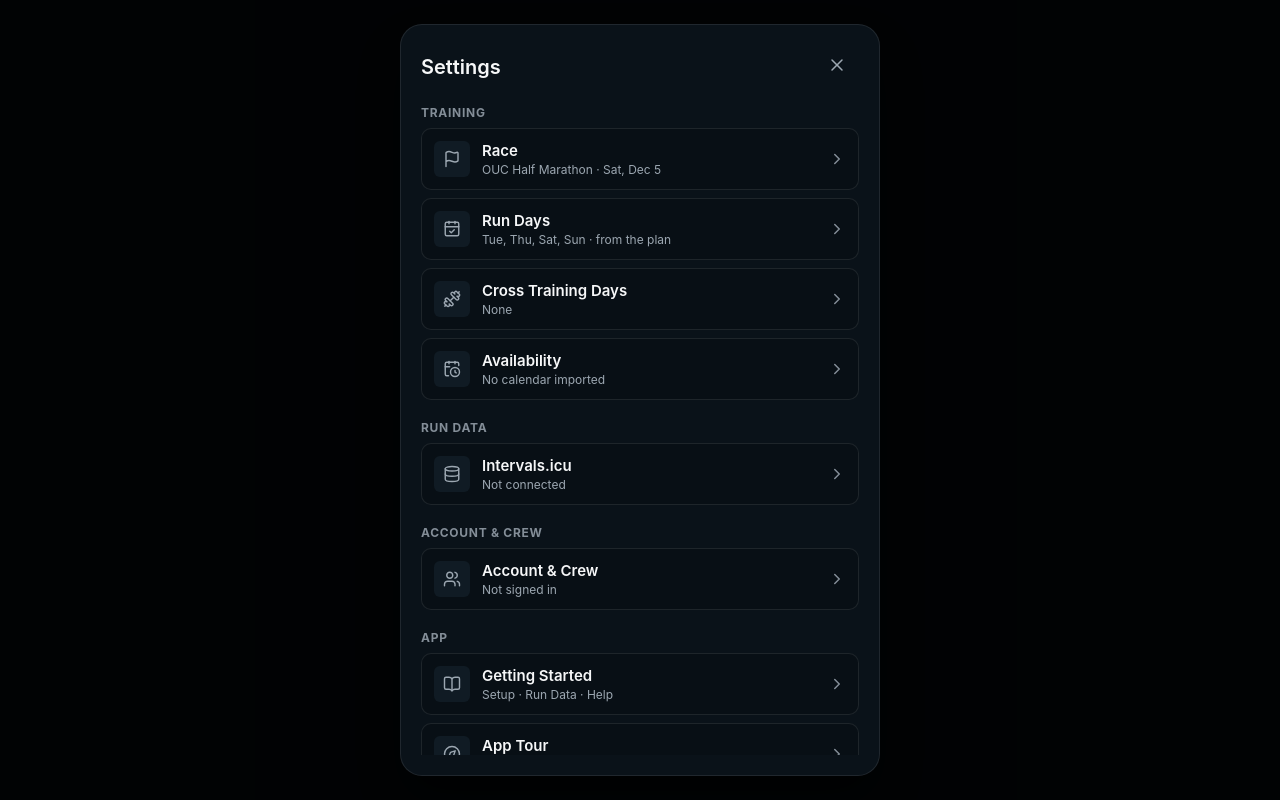
Test case: moving between settings and the sheet it opens › shows one sheet at a time, and comes back here when one is dismissed
Click the button "Run Days Tue, Thu, Sat, Sun · from the plan".
click(640, 229)  # box top-left (421, 198), bottom-right (859, 260)
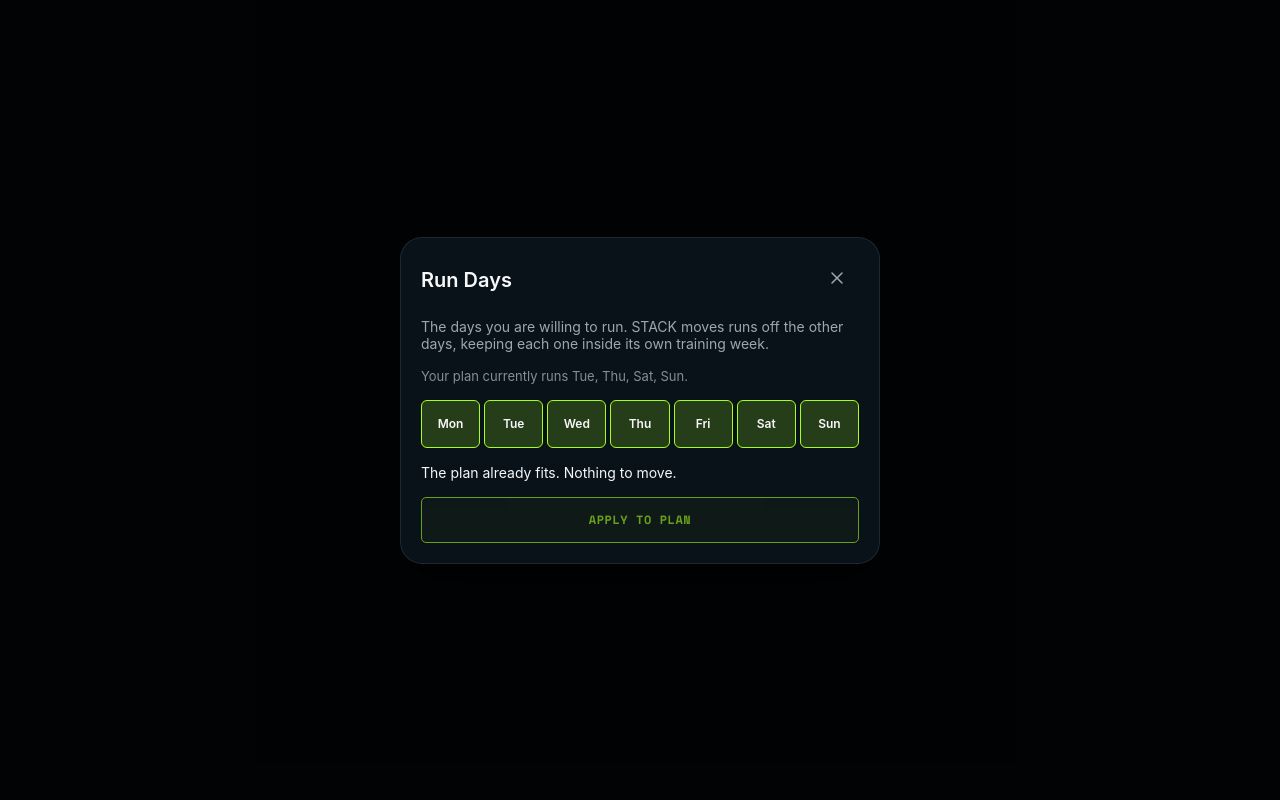
Check: the button "Availability" is gone
Click the button named "Close".
click(837, 280)  # box top-left (815, 258), bottom-right (859, 302)
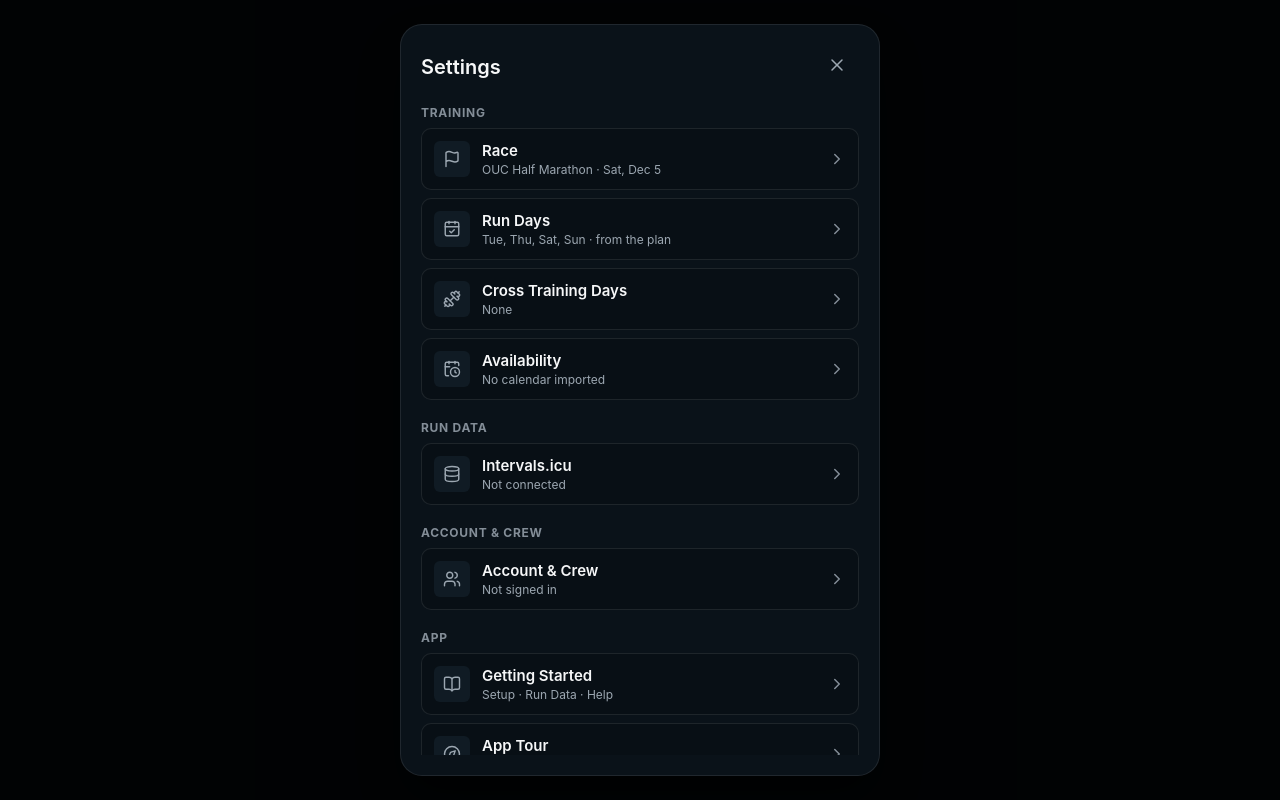
Check: the button "Availability No calendar imported" is shown, box top-left (421, 338), bottom-right (859, 400)
